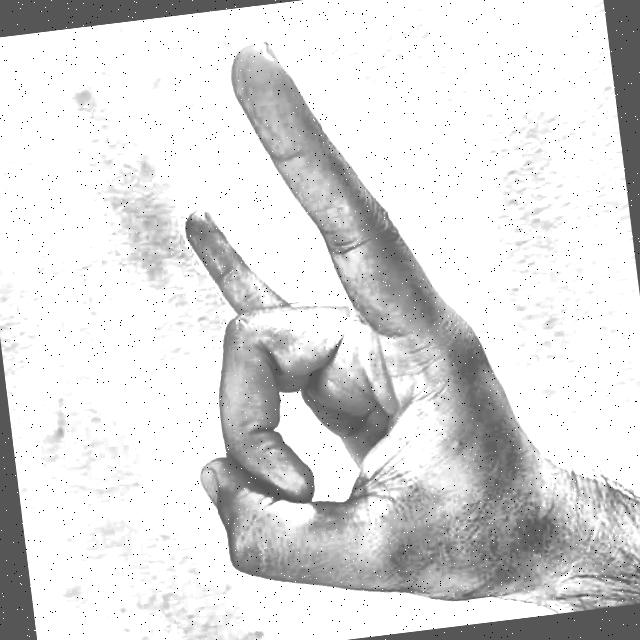Cha: (50, 0, 573, 640)
